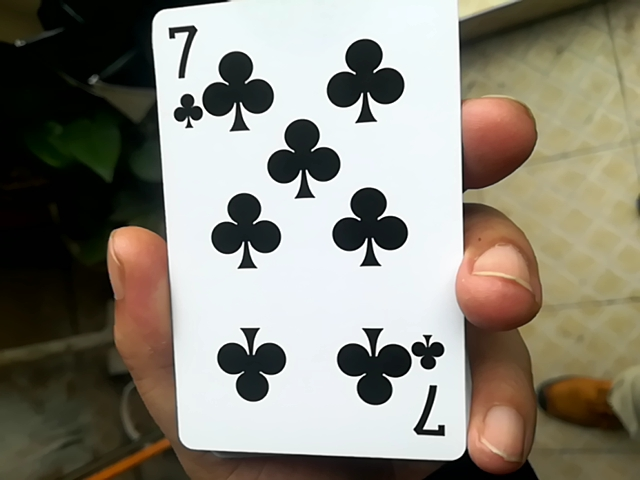mh 7: (140, 8, 467, 467)
